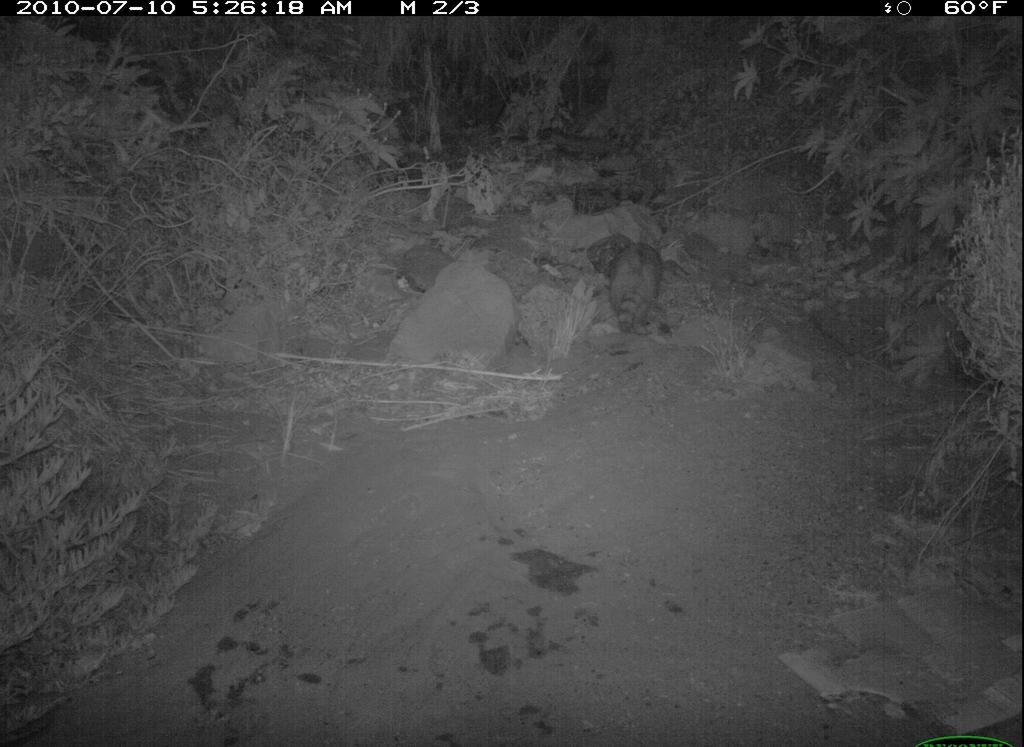raccoon: (606, 235, 685, 349)
